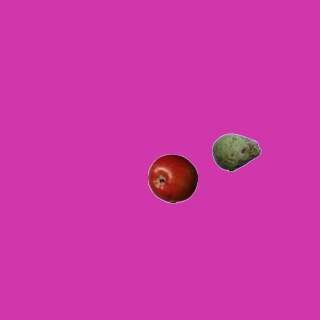Apple Braeburn: (147, 153, 197, 203)
Pear Stone: (211, 127, 261, 177)
